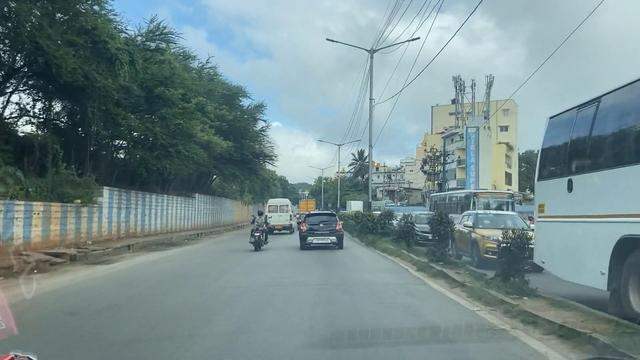HMV: (267, 198, 295, 235)
LMV: (301, 213, 344, 251), (252, 211, 266, 250)
